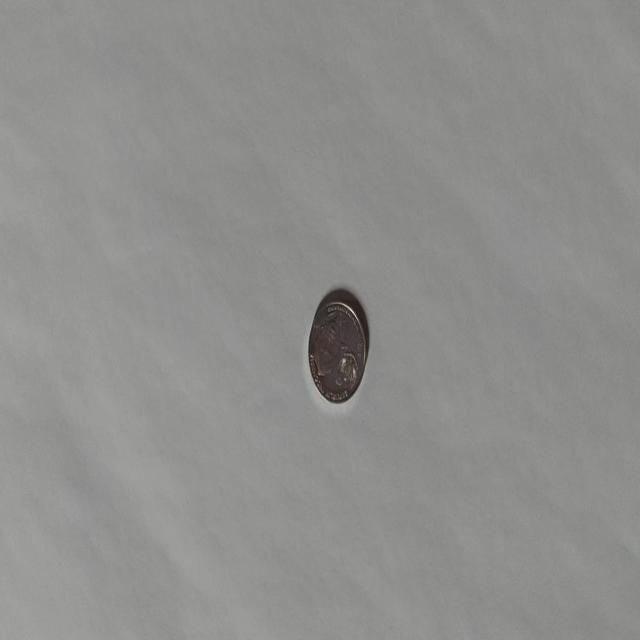dua ratus rupiah: (307, 296, 367, 404)
